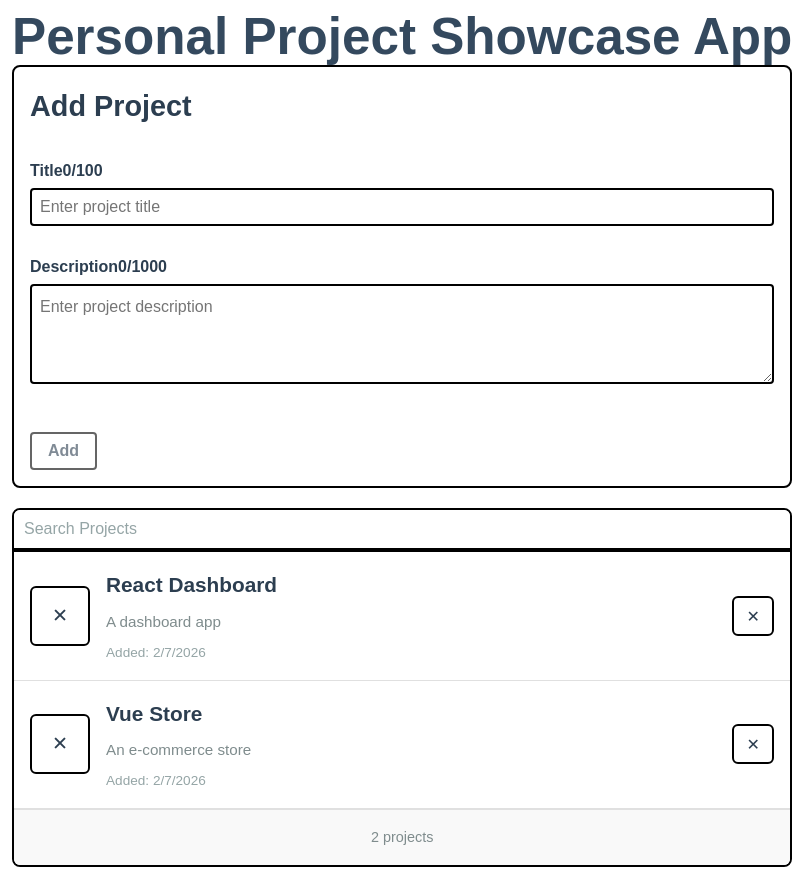
Test case: App Integration - User Workflows › allows user to search for projects
Expected: the heading "React Dashboard" is shown, [106,573,277,596]
Expected: the heading "Vue Store" is shown, [106,702,202,725]
Get search input from ProjectsList
Type "React" into the field with placeholder "Search Projects".
click(402, 530); type("React")  # box [14,510,790,550]
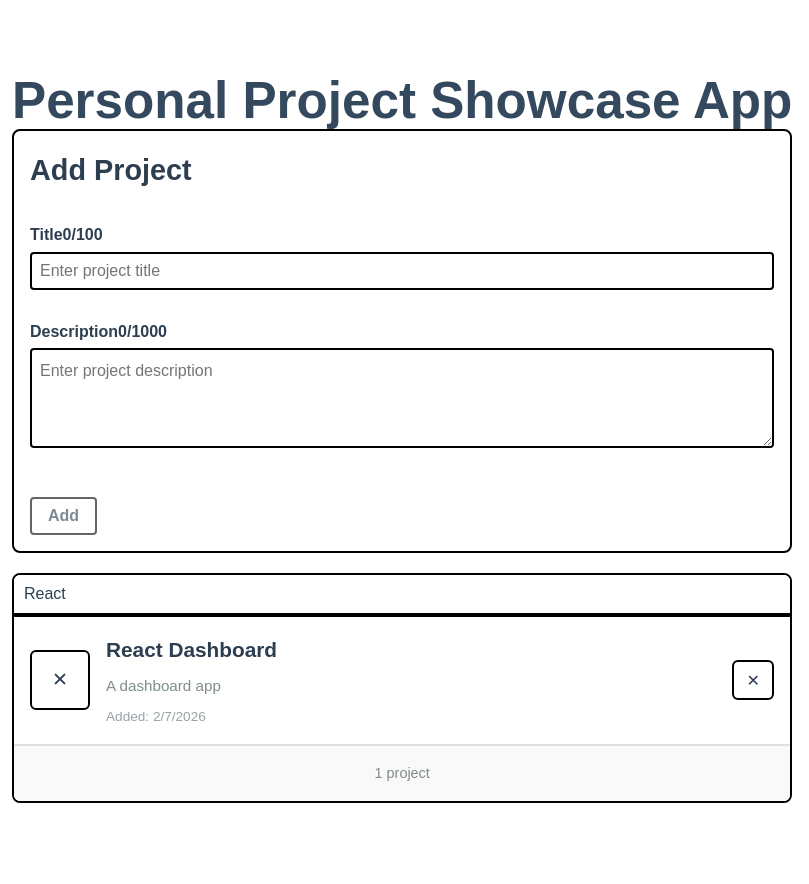
Expected: the heading "React Dashboard" is shown, [106,638,277,661]
Expected: the heading "Vue Store" is gone
Clear search
Clear the field with placeholder "Search Projects" at [402, 595], box [14,575,790,615]
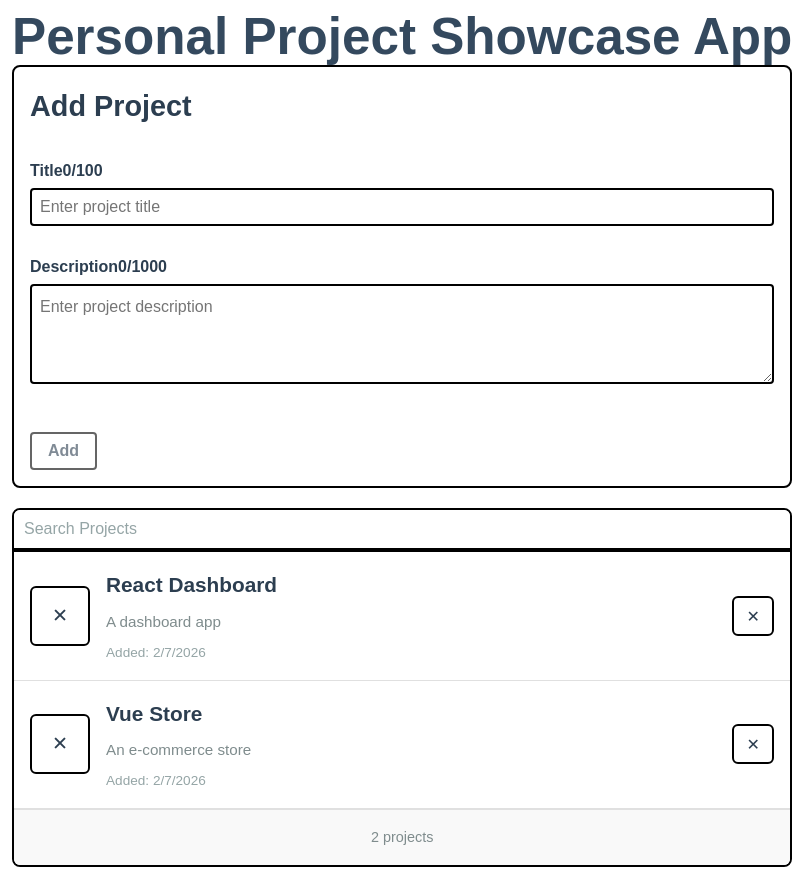
Expected: the heading "React Dashboard" is shown, [106,573,277,596]
Expected: the heading "Vue Store" is shown, [106,702,202,725]
